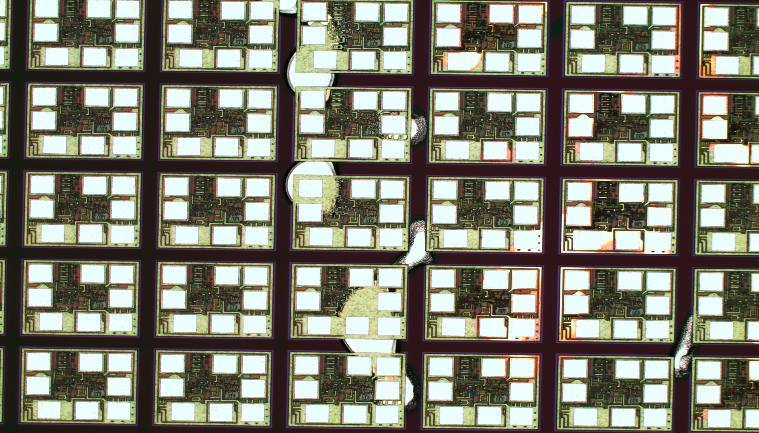COATING BAD: (283, 14, 713, 419)
